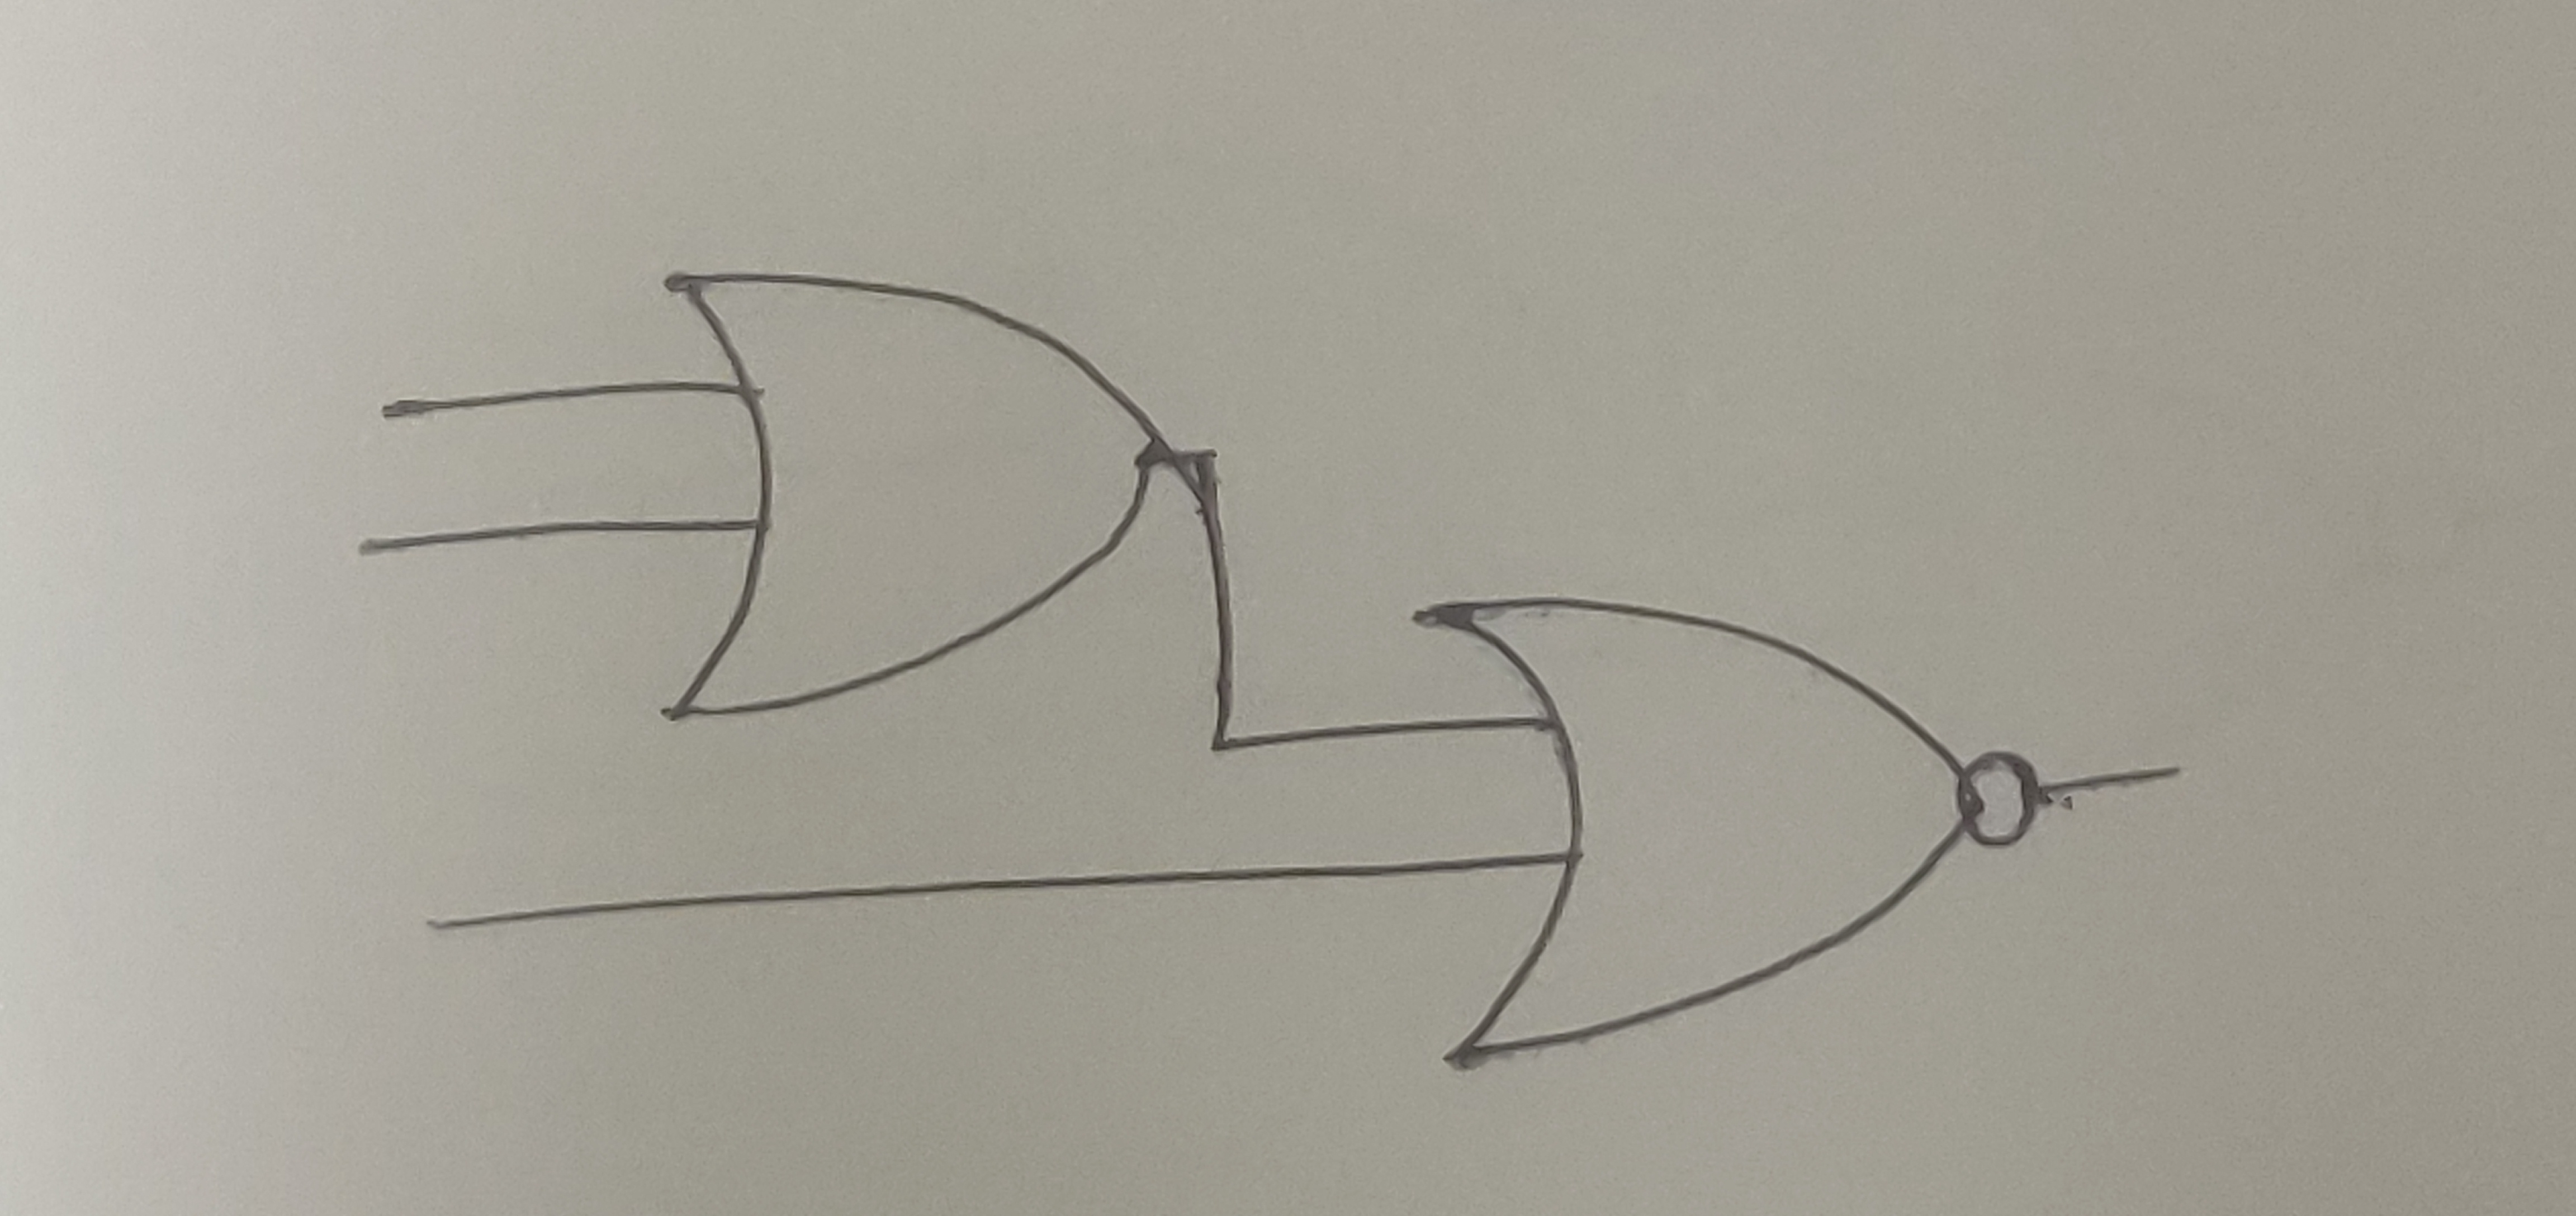not: (1952, 743, 2054, 861)
or: (1410, 585, 1978, 1075), (664, 256, 1160, 726)
